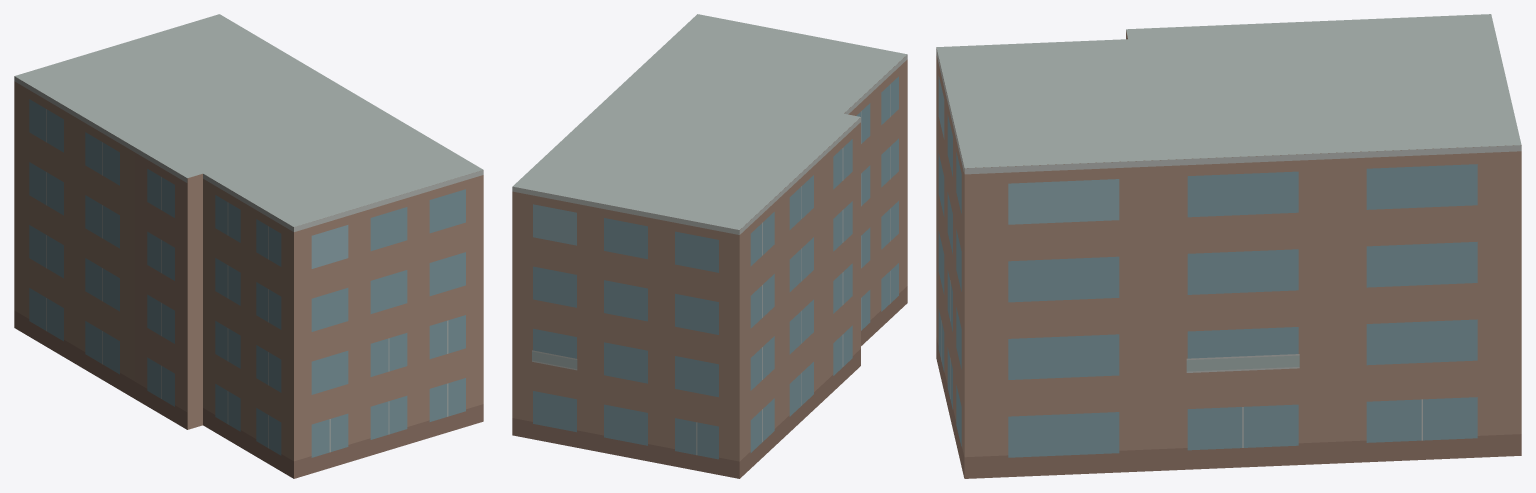
The model's file is residential-ad0b4062-382f-48c5-9e51-8b2294f853fb.glb.
The picture shows the model from 3 angles, left to right: view 1: azimuth 30°, elevation 25°; view 2: azimuth 150°, elevation 25°; view 3: azimuth 270°, elevation 25°; orthographic projection. The views are drawn at different scales.
Parts seen in each view (by area): view 1: residential-ad0b4062-382f-48c5-9e51-8b2294f853fb.tmp; view 2: residential-ad0b4062-382f-48c5-9e51-8b2294f853fb.tmp; view 3: residential-ad0b4062-382f-48c5-9e51-8b2294f853fb.tmp.
Boxes of the visible parts, x1,y1,x2,y2 form: residential-ad0b4062-382f-48c5-9e51-8b2294f853fb.tmp: [14, 14, 483, 478]; residential-ad0b4062-382f-48c5-9e51-8b2294f853fb.tmp: [512, 14, 907, 478]; residential-ad0b4062-382f-48c5-9e51-8b2294f853fb.tmp: [936, 14, 1521, 478].
Size of the model in its own units: 13 by 12.2 by 20.84.
